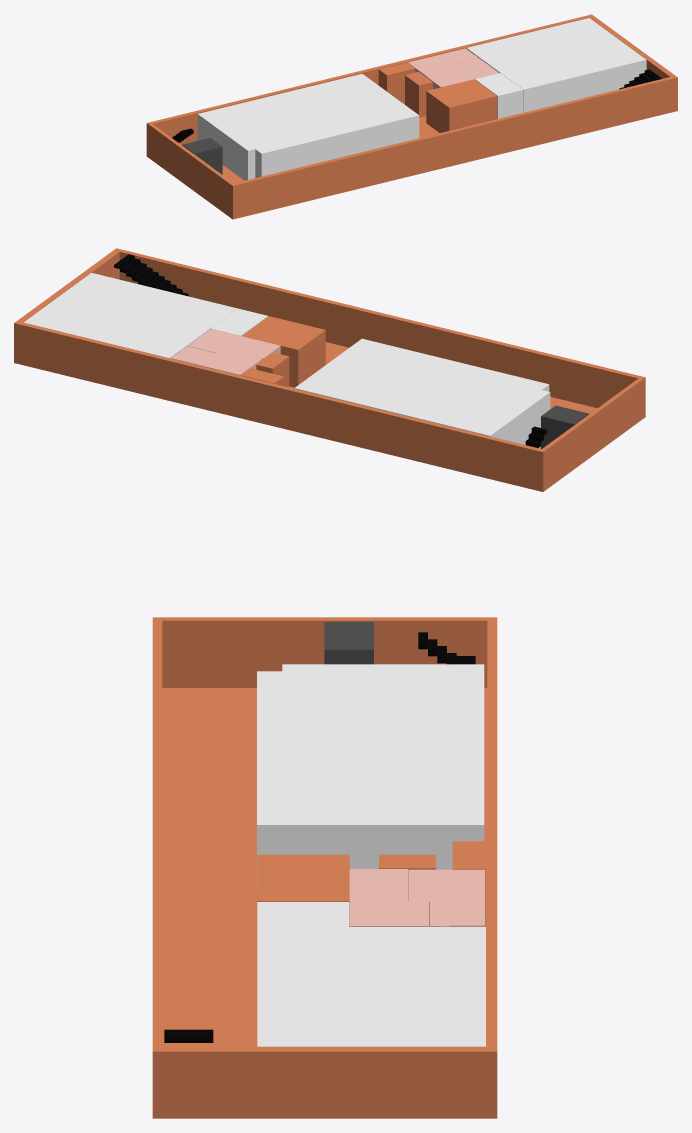
3 renders of one model, top to bottom at view 1: azimuth 30°, elevation 25°; view 2: azimuth 150°, elevation 25°; view 3: azimuth 270°, elevation 25°, orthographic. The views are drawn at different scales.
Parts seen in each view (by area): view 1: object, LEARING STUDIO201, Active Studio, 準備室, 男子トイレ_2_B1_1, 女子トイレ_2_B1_1, エレベーター_2_B1_1, 階段_2_B1_1; view 2: object, LEARING STUDIO201, Active Studio, 男子トイレ_2_B1_1, 女子トイレ_2_B1_1, 階段_2_B1_1, エレベーター_2_B1_1, 準備室; view 3: object, LEARING STUDIO201, Active Studio, 男子トイレ_2_B1_1, 女子トイレ_2_B1_1, 準備室, エレベーター_2_B1_1, 階段_2_B1_2.
Part boxes in pixels (x1=…): object: x1=146, y1=14, x2=677, y2=219; LEARING STUDIO201: x1=197, y1=73, x2=419, y2=180; Active Studio: x1=466, y1=18, x2=646, y2=112; 準備室: x1=475, y1=73, x2=523, y2=118; 男子トイレ_2_B1_1: x1=426, y1=58, x2=498, y2=89; 女子トイレ_2_B1_1: x1=407, y1=48, x2=478, y2=77; エレベーター_2_B1_1: x1=182, y1=138, x2=222, y2=174; 階段_2_B1_1: x1=619, y1=69, x2=661, y2=89; object: x1=14, y1=248, x2=645, y2=491; LEARING STUDIO201: x1=294, y1=338, x2=550, y2=444; Active Studio: x1=24, y1=273, x2=237, y2=358; 男子トイレ_2_B1_1: x1=188, y1=329, x2=280, y2=359; 女子トイレ_2_B1_1: x1=171, y1=346, x2=262, y2=375; 階段_2_B1_1: x1=114, y1=254, x2=188, y2=296; エレベーター_2_B1_1: x1=541, y1=405, x2=588, y2=448; 準備室: x1=210, y1=308, x2=267, y2=335; object: x1=152, y1=617, x2=497, y2=1118; LEARING STUDIO201: x1=257, y1=664, x2=484, y2=889; Active Studio: x1=257, y1=927, x2=485, y2=1046; 男子トイレ_2_B1_1: x1=349, y1=869, x2=428, y2=926; 女子トイレ_2_B1_1: x1=408, y1=869, x2=484, y2=926; 準備室: x1=257, y1=902, x2=349, y2=926; エレベーター_2_B1_1: x1=324, y1=622, x2=373, y2=664; 階段_2_B1_2: x1=418, y1=632, x2=475, y2=664.
Bounding box in the file's own units: 3 × 0.181 × 0.8865.
